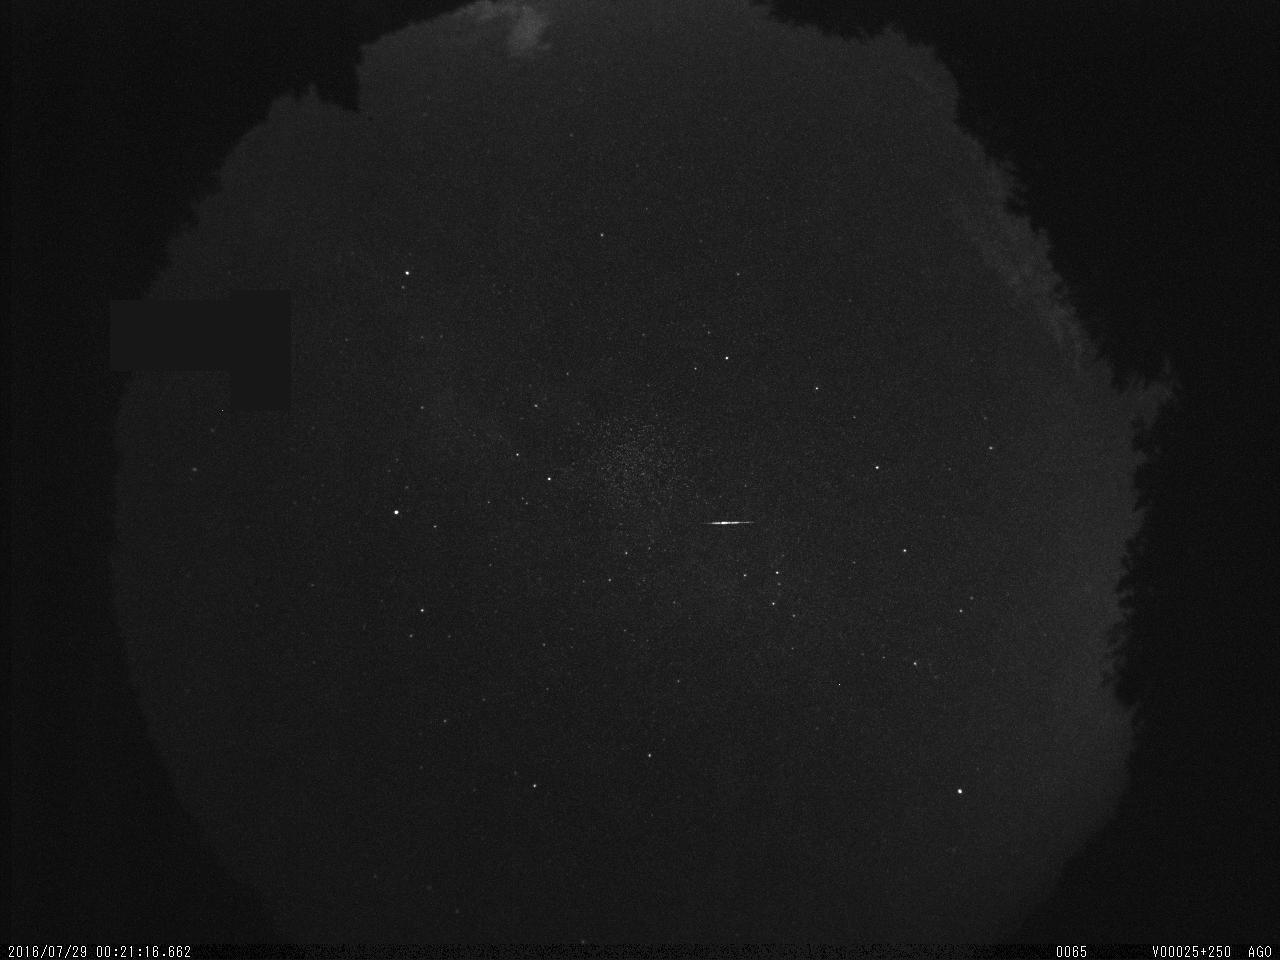meteor: (693, 518, 763, 527)
